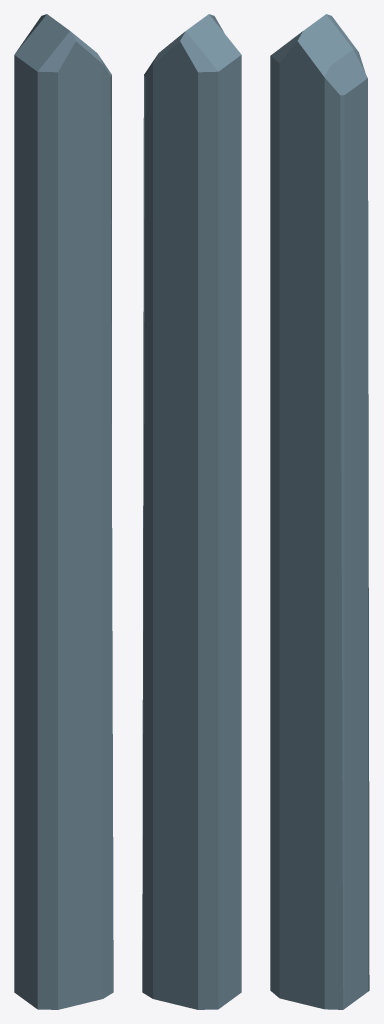
The model's file is Scyskraper_01.fbx.
3 renders of one model, left to right at view 1: azimuth 30°, elevation 25°; view 2: azimuth 150°, elevation 25°; view 3: azimuth 330°, elevation 25°, orthographic.
Visible parts, largest first — view 1: Cube; view 2: Cube; view 3: Cube.
Boxes of the visible parts, x1,y1,x2,y2 form: Cube: [14, 14, 113, 1009]; Cube: [142, 14, 241, 1009]; Cube: [270, 14, 369, 1009].
Bounding box in the file's own units: 2.5 × 2 × 31.05.
